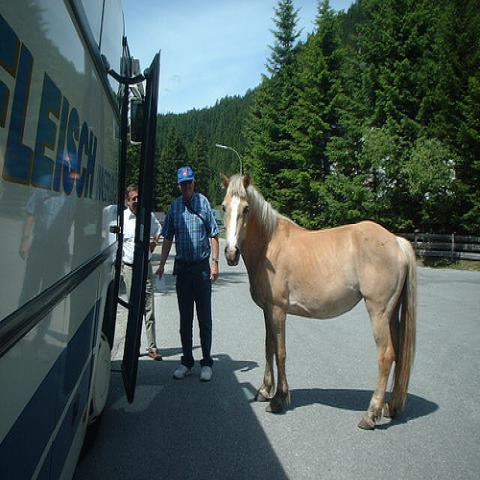bus: (0, 18, 162, 479)
